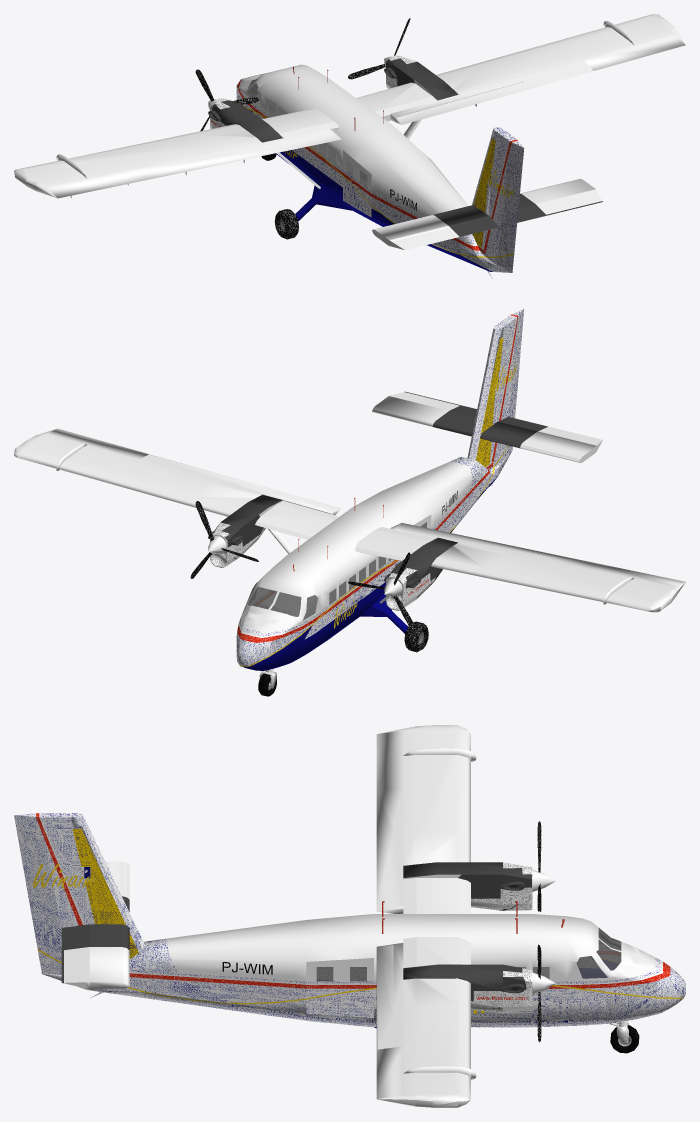
The picture shows the model from 3 angles, top to bottom: view 1: azimuth 30°, elevation 25°; view 2: azimuth 150°, elevation 25°; view 3: azimuth 270°, elevation 25°; orthographic projection. The views are drawn at different scales.
Parts seen in each view (by area): view 1: mesh36_mesh36-geometry, mesh37_mesh37-geometry; view 2: mesh36_mesh36-geometry, mesh37_mesh37-geometry; view 3: mesh36_mesh36-geometry, mesh37_mesh37-geometry.
Part boxes in pixels (left/top/right/bottom): mesh36_mesh36-geometry: left=14, top=14, right=685, bottom=278; mesh37_mesh37-geometry: left=517, top=179, right=602, bottom=222; mesh36_mesh36-geometry: left=14, top=308, right=685, bottom=696; mesh37_mesh37-geometry: left=372, top=391, right=476, bottom=436; mesh36_mesh36-geometry: left=14, top=725, right=685, bottom=1107; mesh37_mesh37-geometry: left=61, top=924, right=129, bottom=989.
Bounding box in the file's own units: 0.7761 × 0.2288 × 0.5876.
